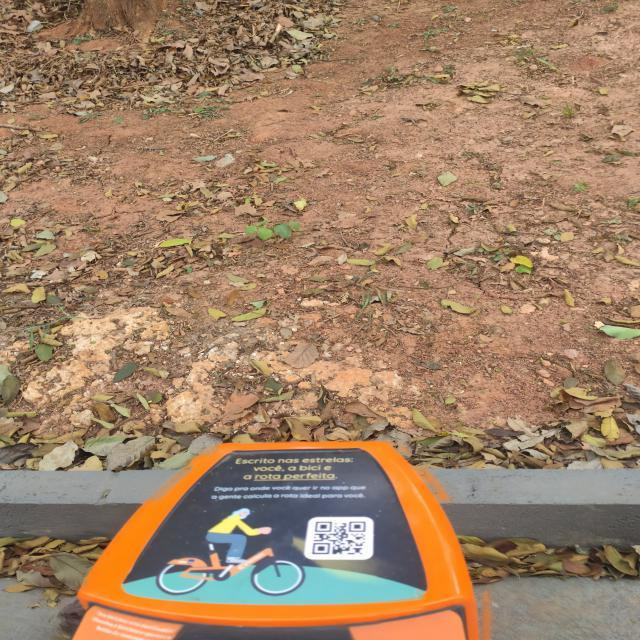qrcode: (314, 523, 366, 556)
